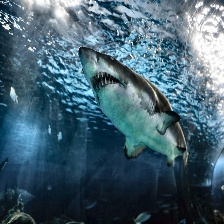shark: (78, 47, 187, 170)
